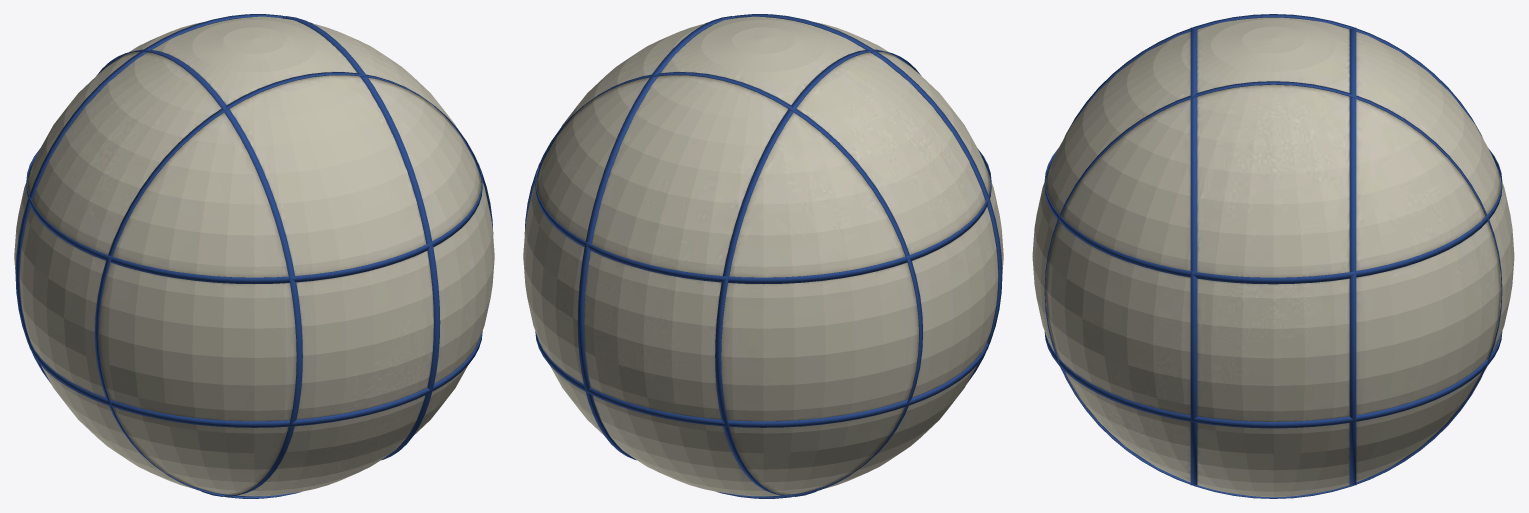
Rendered from volleyball.glb.
The picture shows the model from 3 angles, left to right: view 1: azimuth 30°, elevation 25°; view 2: azimuth 150°, elevation 25°; view 3: azimuth 270°, elevation 25°; orthographic projection.
Visible parts, largest first — view 1: ball_volley, volley_seam; view 2: ball_volley, volley_seam; view 3: ball_volley, volley_seam.
Boxes of the visible parts, bbox=[...] form: ball_volley: bbox=[14, 16, 494, 496]; volley_seam: bbox=[15, 14, 493, 498]; ball_volley: bbox=[523, 16, 1003, 496]; volley_seam: bbox=[524, 14, 1002, 498]; ball_volley: bbox=[1032, 17, 1514, 497]; volley_seam: bbox=[1044, 14, 1502, 498].
Bounding box in the file's own units: 0.21 × 0.21 × 0.21.
2 materials, 1 textured.
